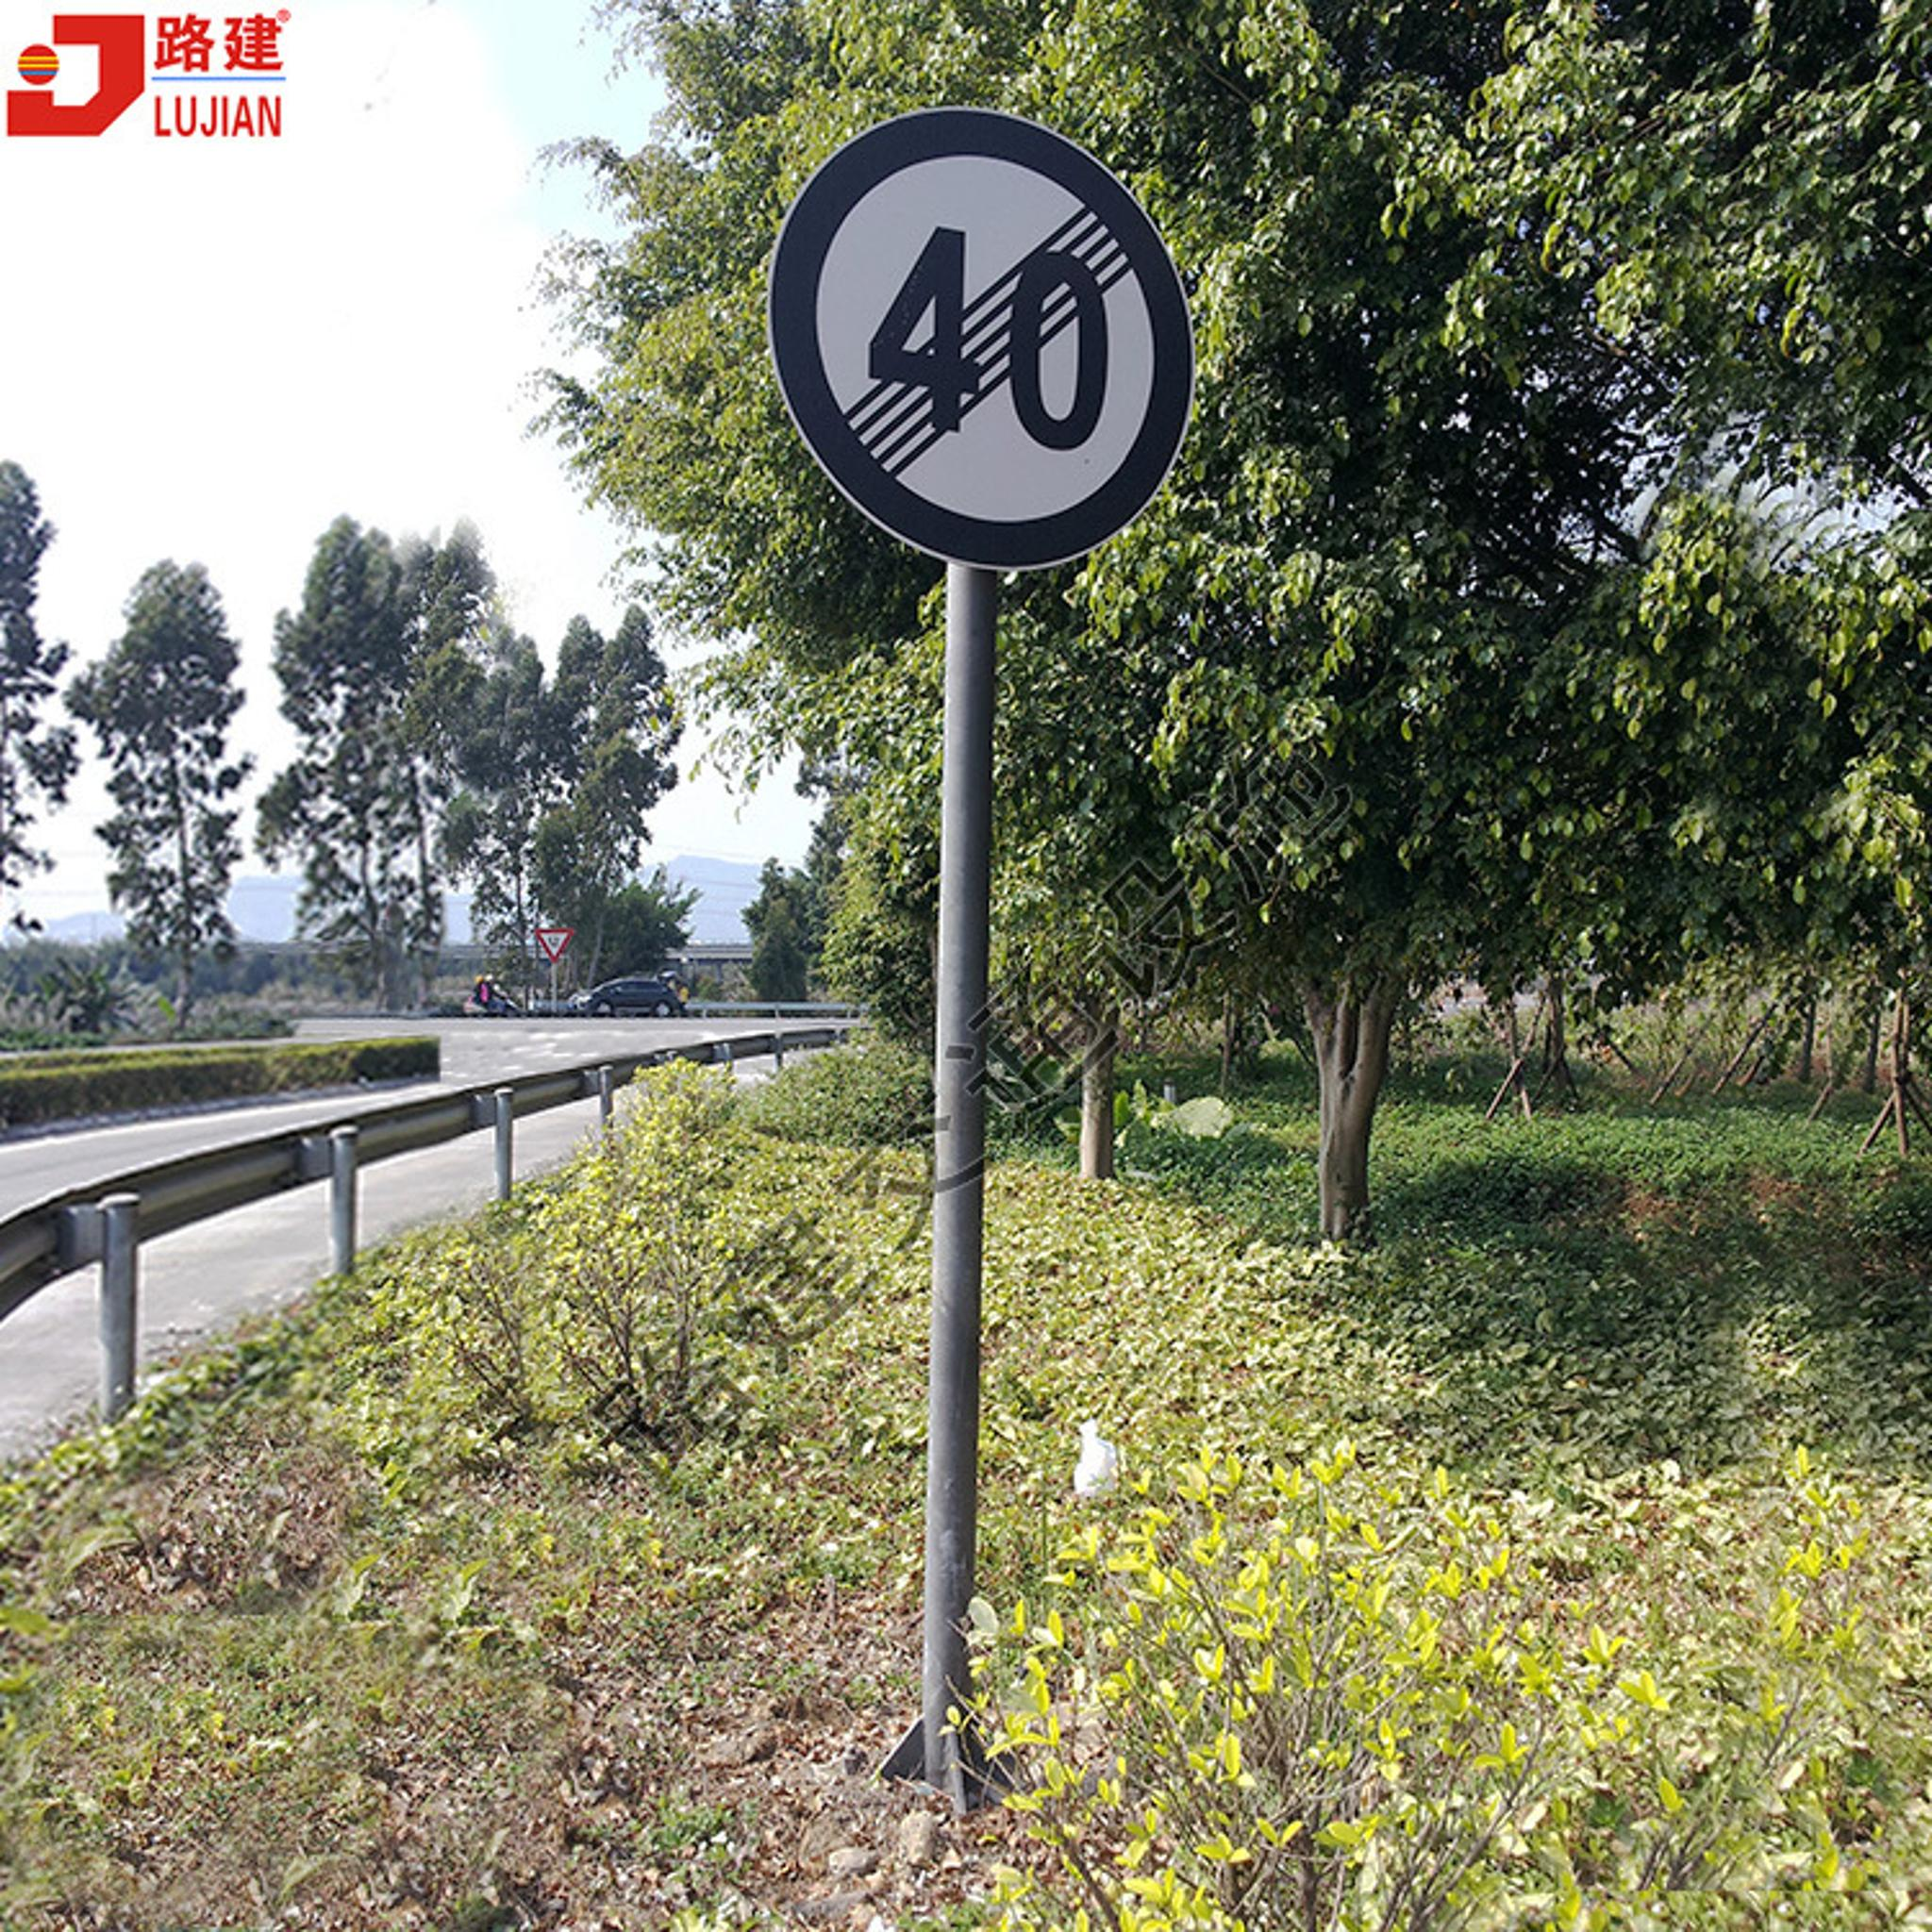pr40: (770, 108, 1198, 568)
